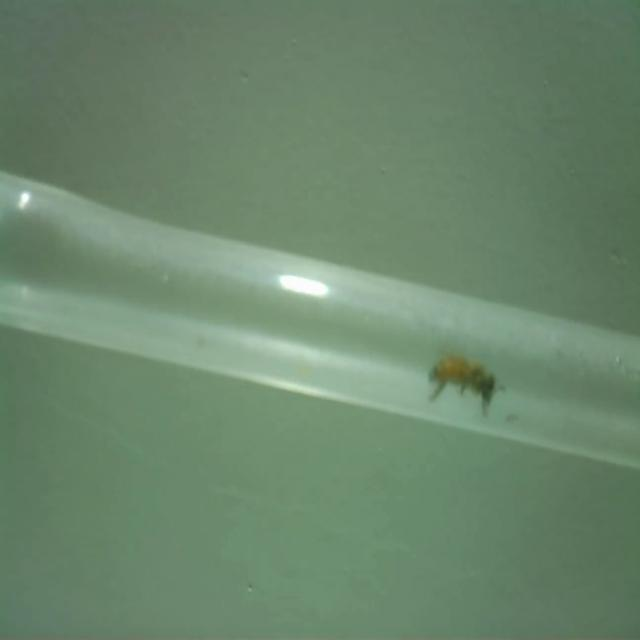Honeybee-Detection: (428, 354, 504, 416)
